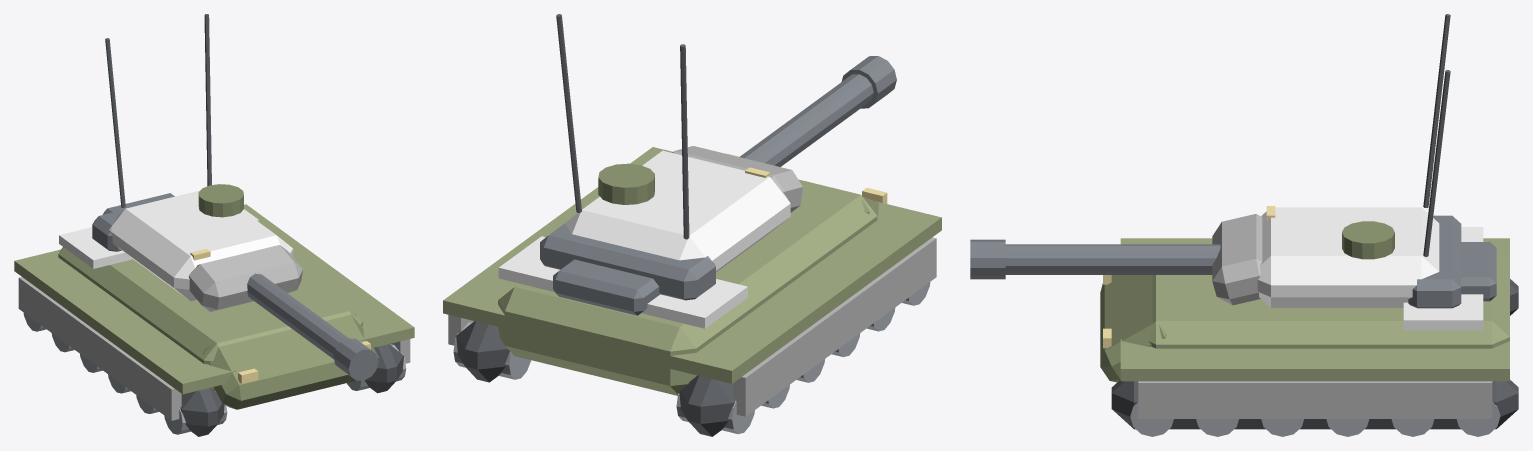
File: tank.glb
The picture shows the model from 3 angles, left to right: view 1: azimuth 30°, elevation 25°; view 2: azimuth 150°, elevation 25°; view 3: azimuth 270°, elevation 25°; orthographic projection. The views are drawn at different scales.
Parts seen in each view (by area): view 1: main, turret; view 2: main, turret; view 3: main, turret.
Boxes of the visible parts, x1=… form: main: x1=14, y1=193, x2=414, y2=436; turret: x1=92, y1=14, x2=378, y2=380; main: x1=443, y1=147, x2=941, y2=436; turret: x1=540, y1=14, x2=896, y2=300; main: x1=1100, y1=227, x2=1518, y2=436; turret: x1=970, y1=14, x2=1461, y2=308.
Size of the model in its own units: 0.72 by 0.8306 by 1.24.
